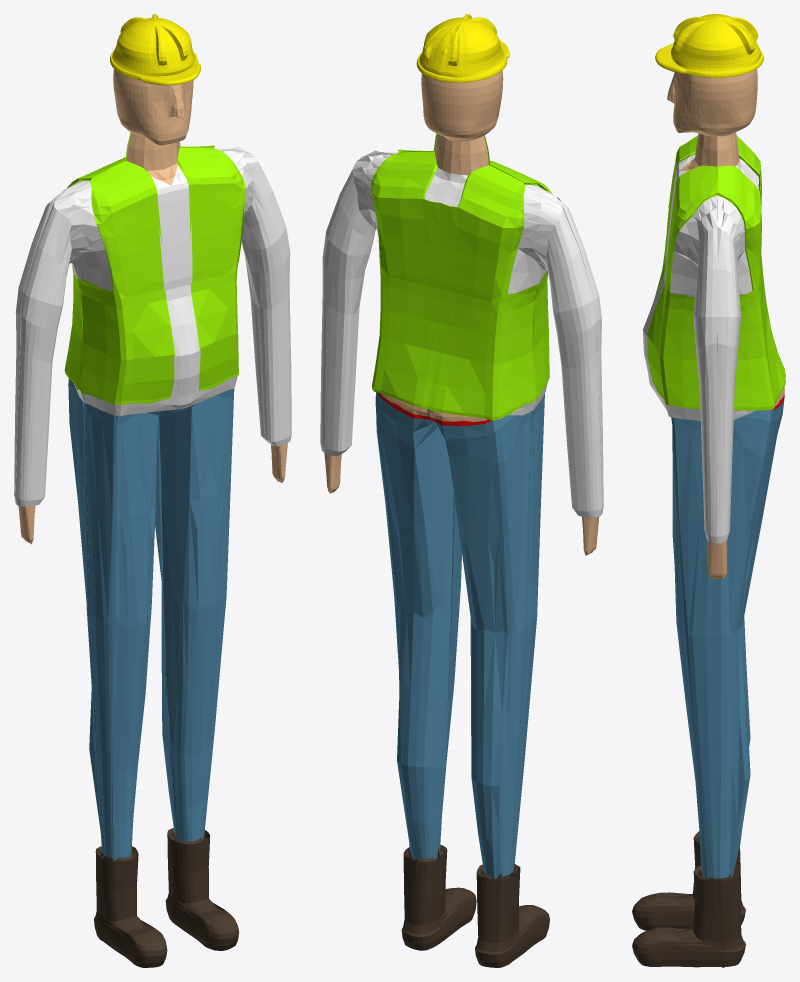
File: basic human.FBX
The picture shows the model from 3 angles, left to right: view 1: azimuth 30°, elevation 25°; view 2: azimuth 150°, elevation 25°; view 3: azimuth 270°, elevation 25°; orthographic projection. The views are drawn at different scales.
Visible parts, largest first — view 1: ChamferBox001; view 2: ChamferBox001; view 3: ChamferBox001.
Part boxes in pixels (<box>): ChamferBox001: <box>14,14,291,967</box>; ChamferBox001: <box>320,14,603,967</box>; ChamferBox001: <box>632,14,785,967</box>.
Bounding box in the file's own units: 24.11 × 76.34 × 11.48.
